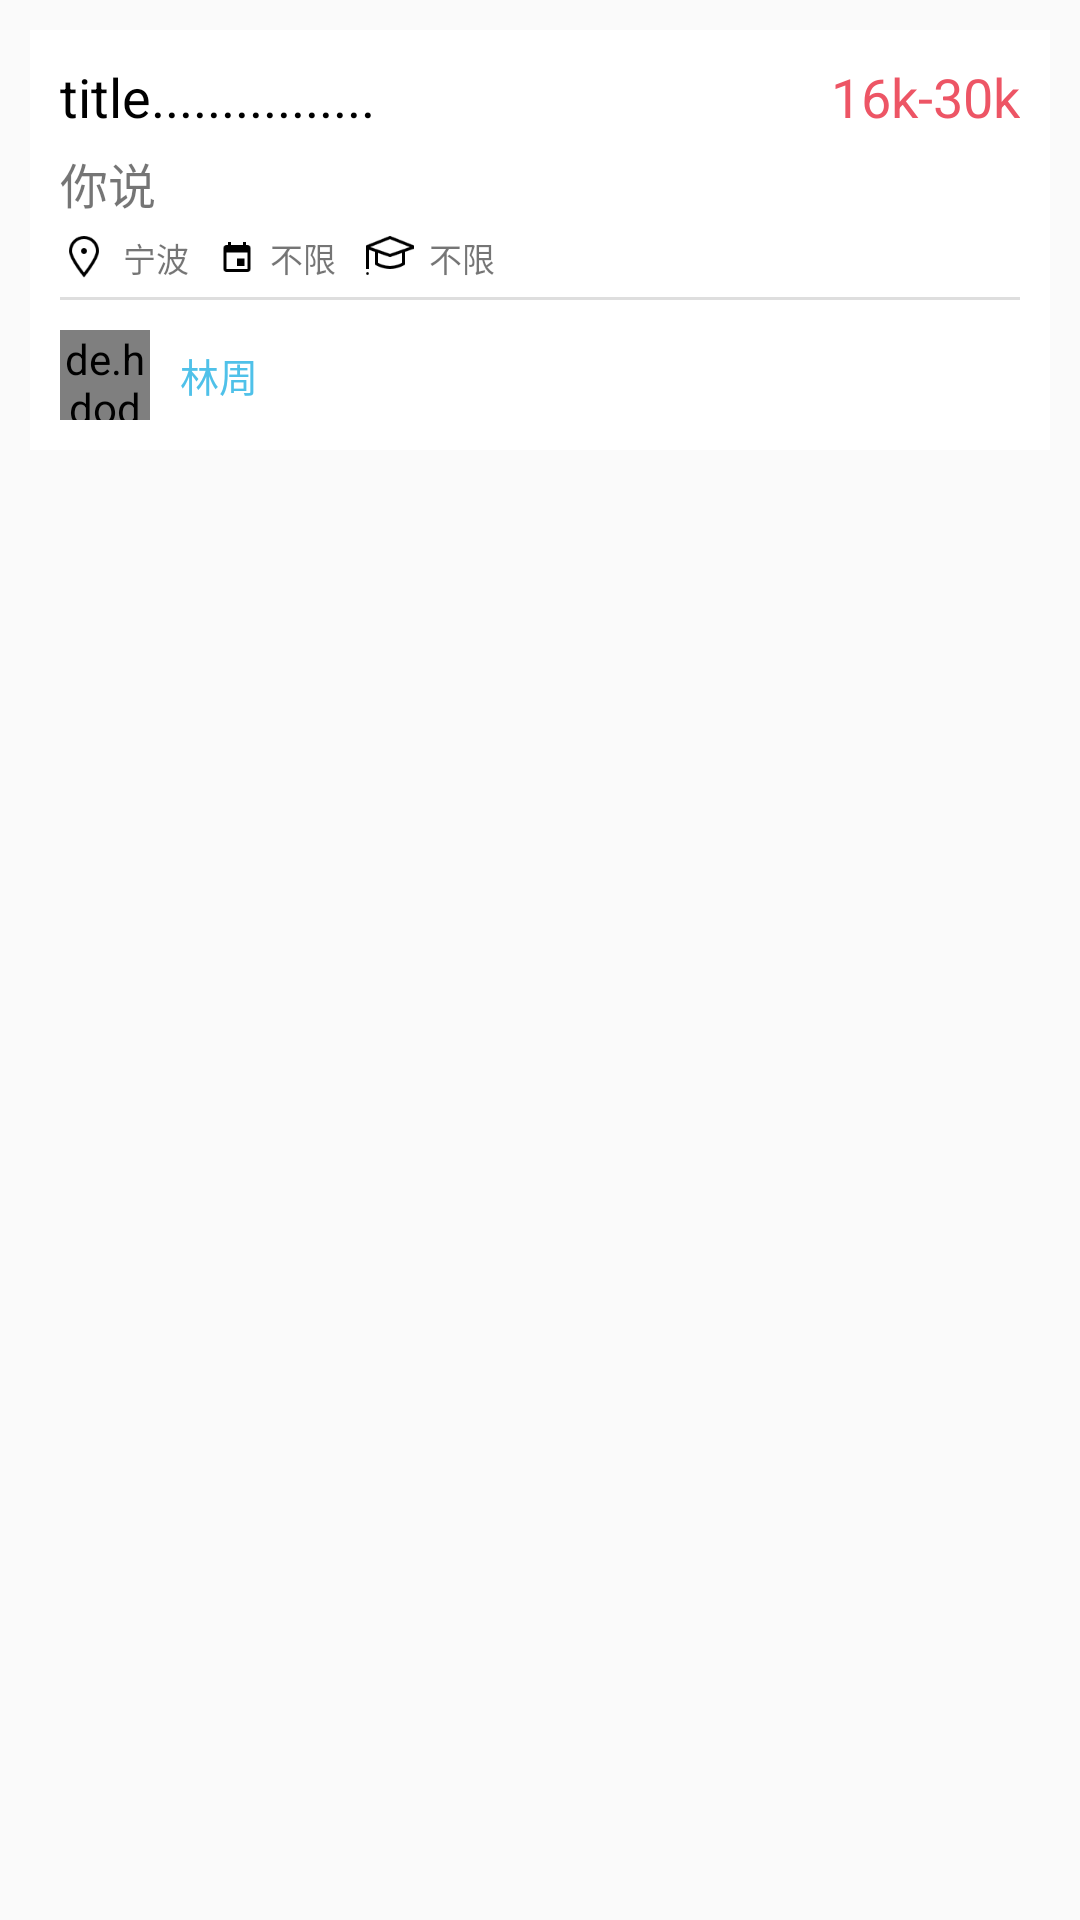

Point at icon controls on the screen. Image size 1080px×1920px, points as (x=x, y=y).
galender: (x=237, y=257)
graduation: (x=390, y=255)
marker: (x=84, y=256)
